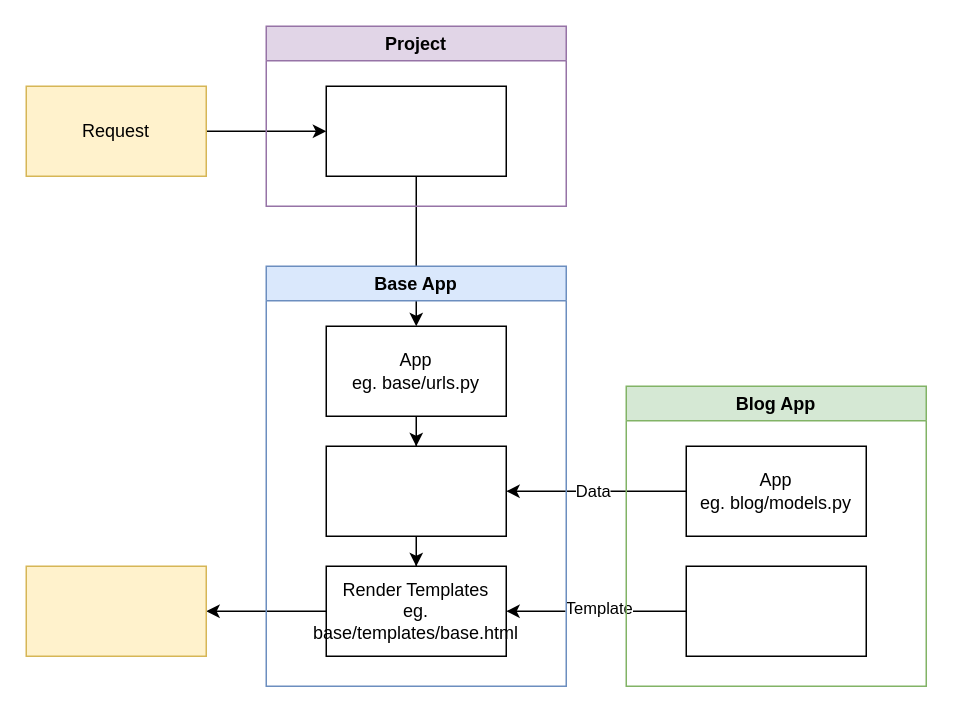
The diagram is 953 pixels wide and 713 high, and some of its shapes have lost their labels. Each missing label, with the centre of its shape:
Inclue Templates eg. blog/templates/posts-widget.html: point (775, 610)
Project eg. config/urls.py: point (415, 130)
Response: point (115, 610)
Views eg base/views.py: point (415, 490)
